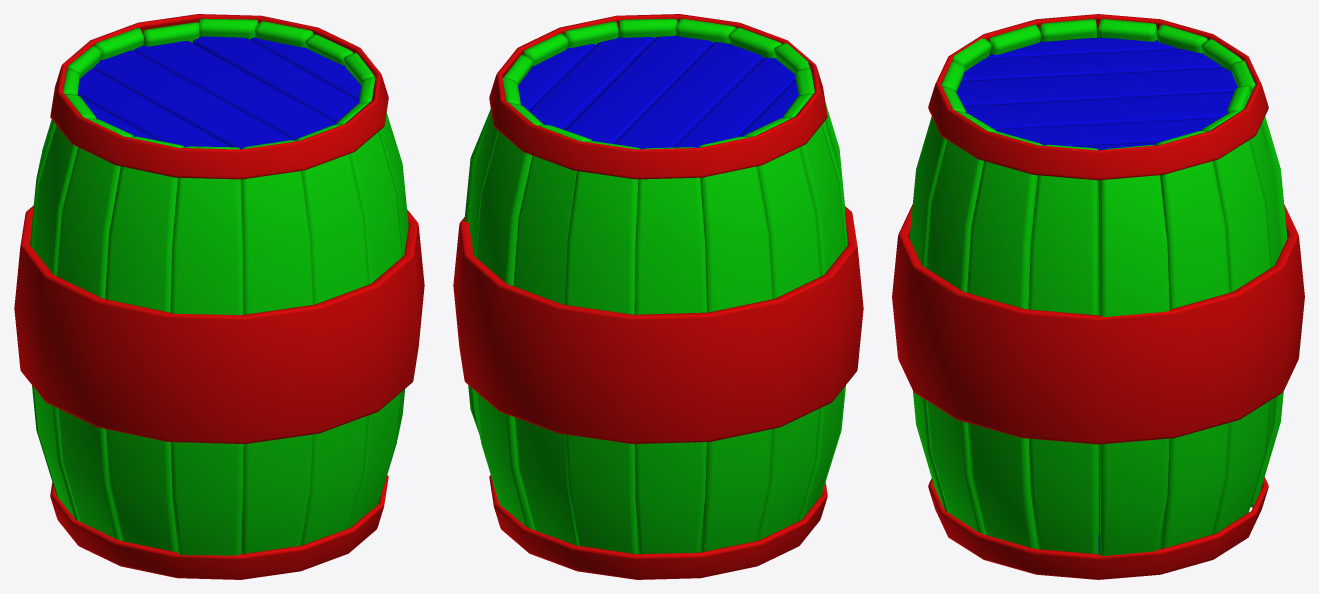
The model's file is Barril.fbx.
The picture shows the model from 3 angles, left to right: view 1: azimuth 30°, elevation 25°; view 2: azimuth 150°, elevation 25°; view 3: azimuth 270°, elevation 25°; orthographic projection.
Parts seen in each view (by area): view 1: Barril_LowPolyTRI; view 2: Barril_LowPolyTRI; view 3: Barril_LowPolyTRI.
Boxes of the visible parts, x1=… form: Barril_LowPolyTRI: x1=14, y1=14, x2=424, y2=579; Barril_LowPolyTRI: x1=453, y1=14, x2=863, y2=579; Barril_LowPolyTRI: x1=892, y1=14, x2=1304, y2=579.
Bounding box in the file's own units: 550 × 630 × 550.
